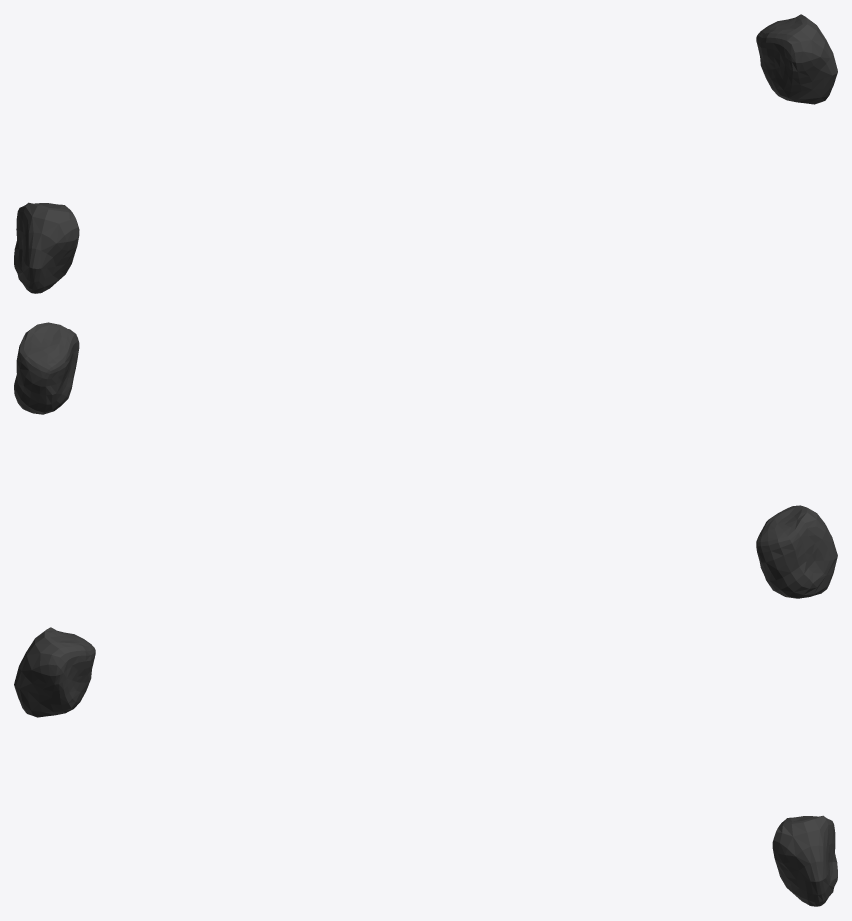
File: Carpal_first_1.glb
3 views of the same model, one above another, from view 1: azimuth 30°, elevation 25°; view 2: azimuth 150°, elevation 25°; view 3: azimuth 330°, elevation 25° (orthographic).
Visible parts, largest first — view 1: Carpal_first_1; view 2: Carpal_first_1; view 3: Carpal_first_1.
Part boxes in pixels (x1,y1,x2,y2): Carpal_first_1: [14, 14, 837, 293]; Carpal_first_1: [14, 322, 837, 598]; Carpal_first_1: [14, 627, 837, 906].
Size of the model in its own units: 0.00256 by 0.00025 by 0.000217.
Materials: 1 (1 with a texture image).
